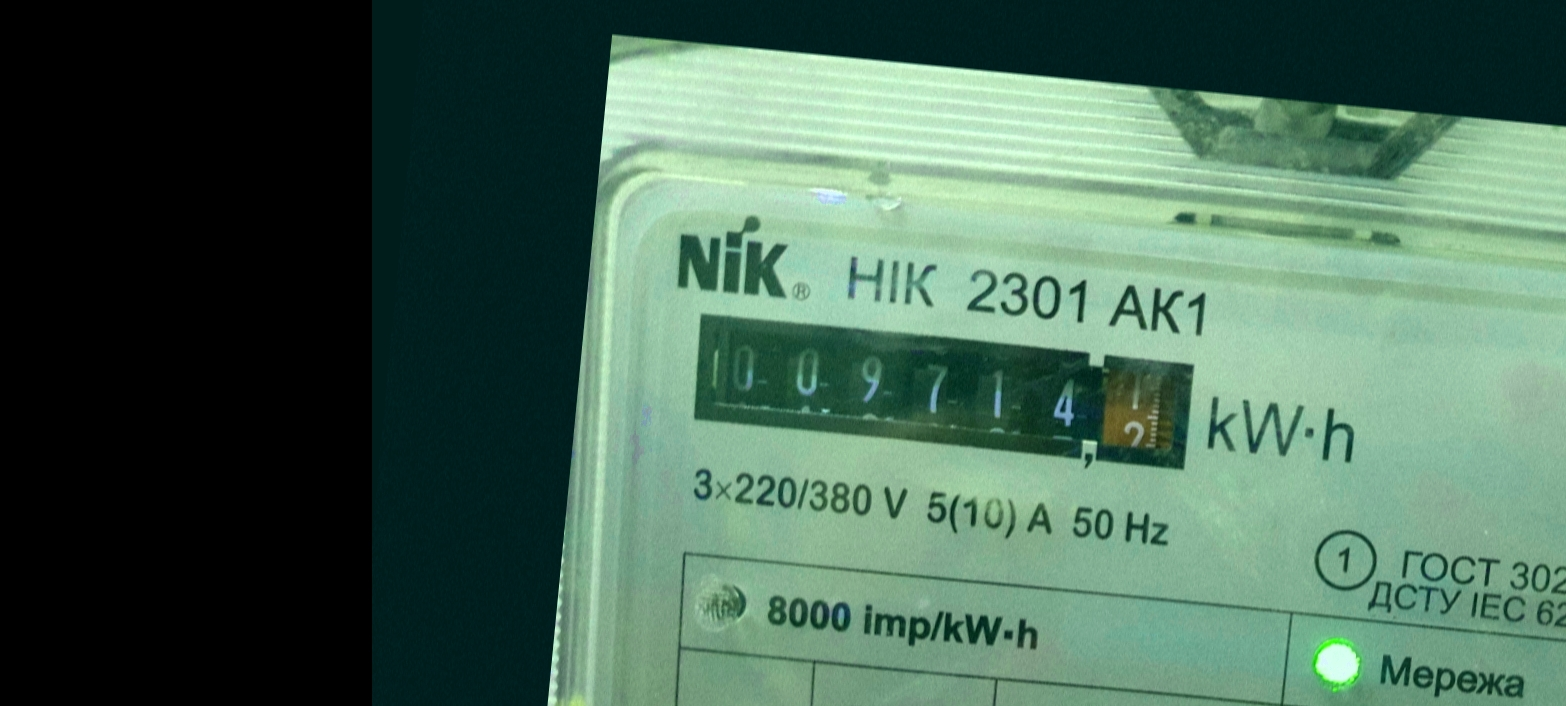0: (728, 340, 762, 396), (793, 343, 824, 398)
1: (985, 364, 1013, 421), (1128, 369, 1146, 413)
2: (1121, 417, 1148, 449)
4: (1049, 374, 1083, 431)
7: (921, 361, 952, 417)
9: (854, 351, 887, 406)
screen: (675, 297, 1214, 489)
